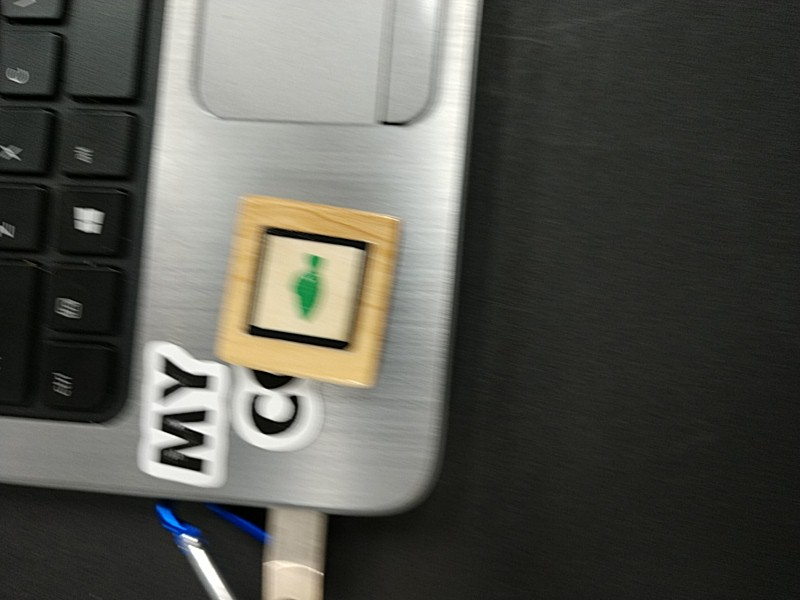Fish Tile: (247, 227, 371, 351)
